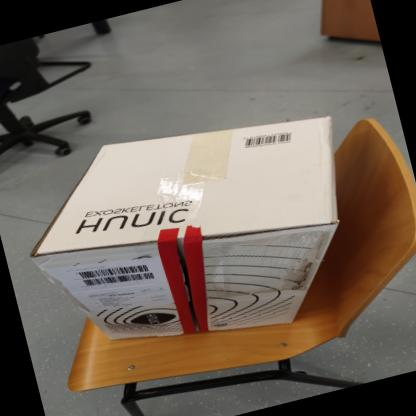box: (10, 84, 400, 377)
